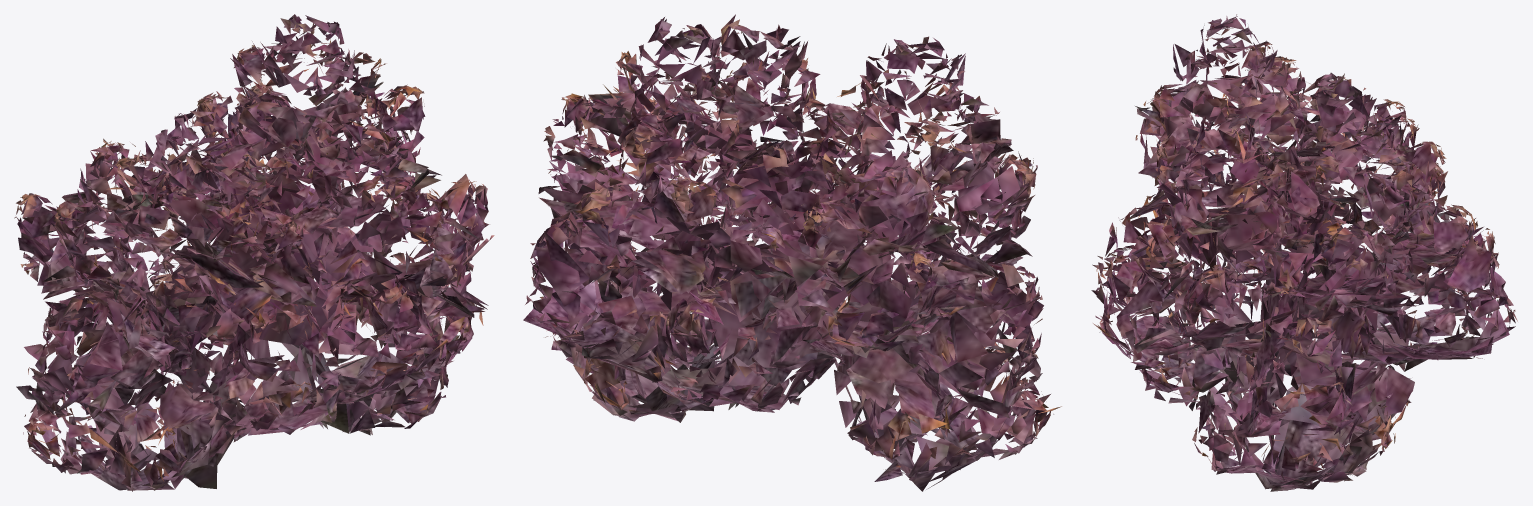
Rendered from purple_frost.glb.
The picture shows the model from 3 angles, left to right: view 1: azimuth 30°, elevation 25°; view 2: azimuth 150°, elevation 25°; view 3: azimuth 270°, elevation 25°; orthographic projection. The views are drawn at different scales.
Parts seen in each view (by area): view 1: Mesh_0; view 2: Mesh_0; view 3: Mesh_0.
Boxes of the visible parts, x1=… form: Mesh_0: x1=14, y1=14, x2=494, y2=491; Mesh_0: x1=523, y1=14, x2=1061, y2=491; Mesh_0: x1=1091, y1=14, x2=1517, y2=491.
Size of the model in its own units: 0.9519 by 0.7879 by 0.7717.
Materials: 1 (1 with a texture image).
